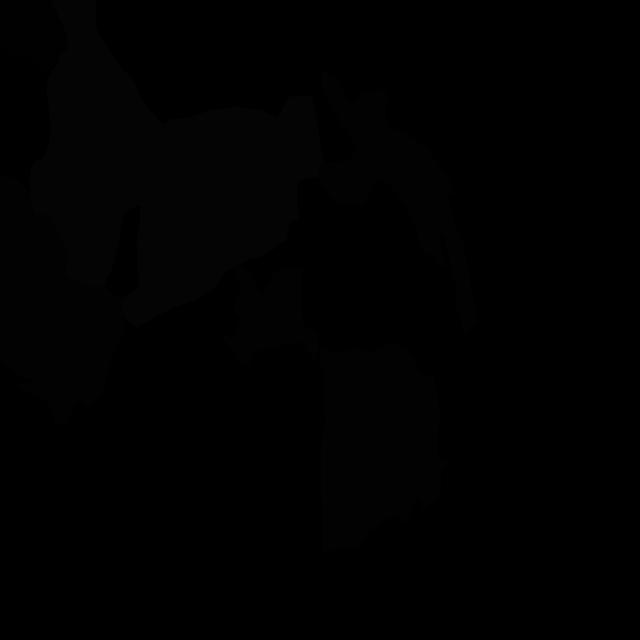cardboard: (321, 70, 478, 336), (0, 176, 125, 423), (319, 343, 448, 554), (222, 263, 318, 368), (318, 151, 372, 206)
soft_plastic: (122, 96, 322, 328), (30, 0, 169, 287)
